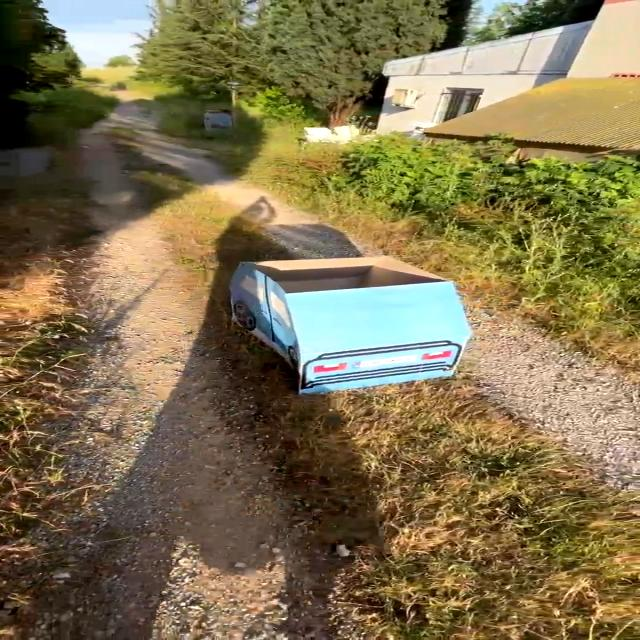blue_car: (199, 213, 494, 414)
